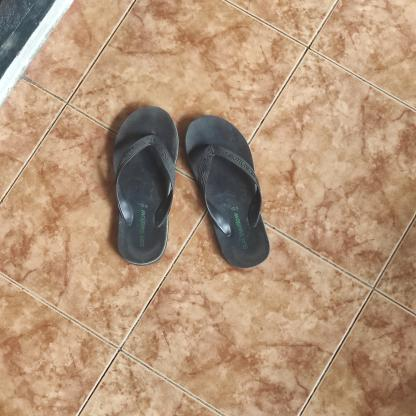Black Swallow B: (184, 104, 271, 270), (112, 106, 179, 265)
